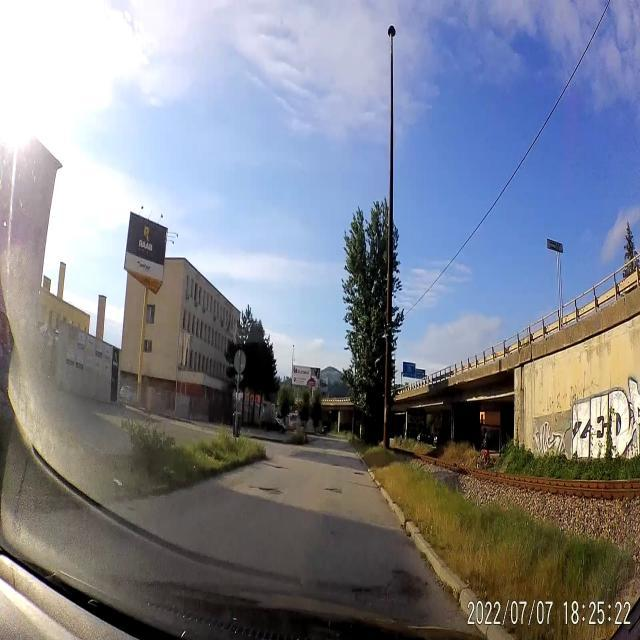Pothole: (352, 563, 431, 617), (252, 476, 284, 501), (319, 482, 343, 500), (262, 458, 290, 472), (348, 469, 372, 476)
